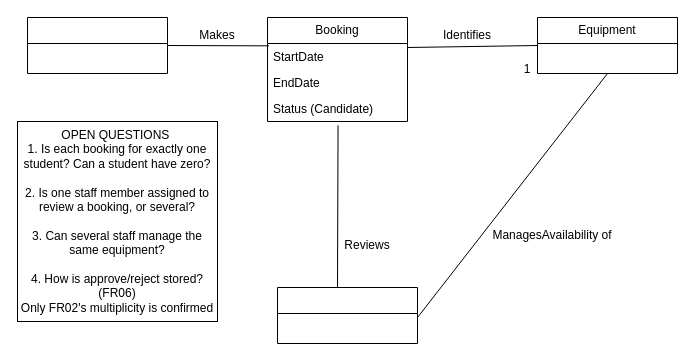
This 695x361 diagram has some shape labels left out. Here are the shapes that lost their labels. From the top down, the centre of each, then its label:
At (x=97, y=45): "Student".
At (x=347, y=315): "Staff Memeber".
